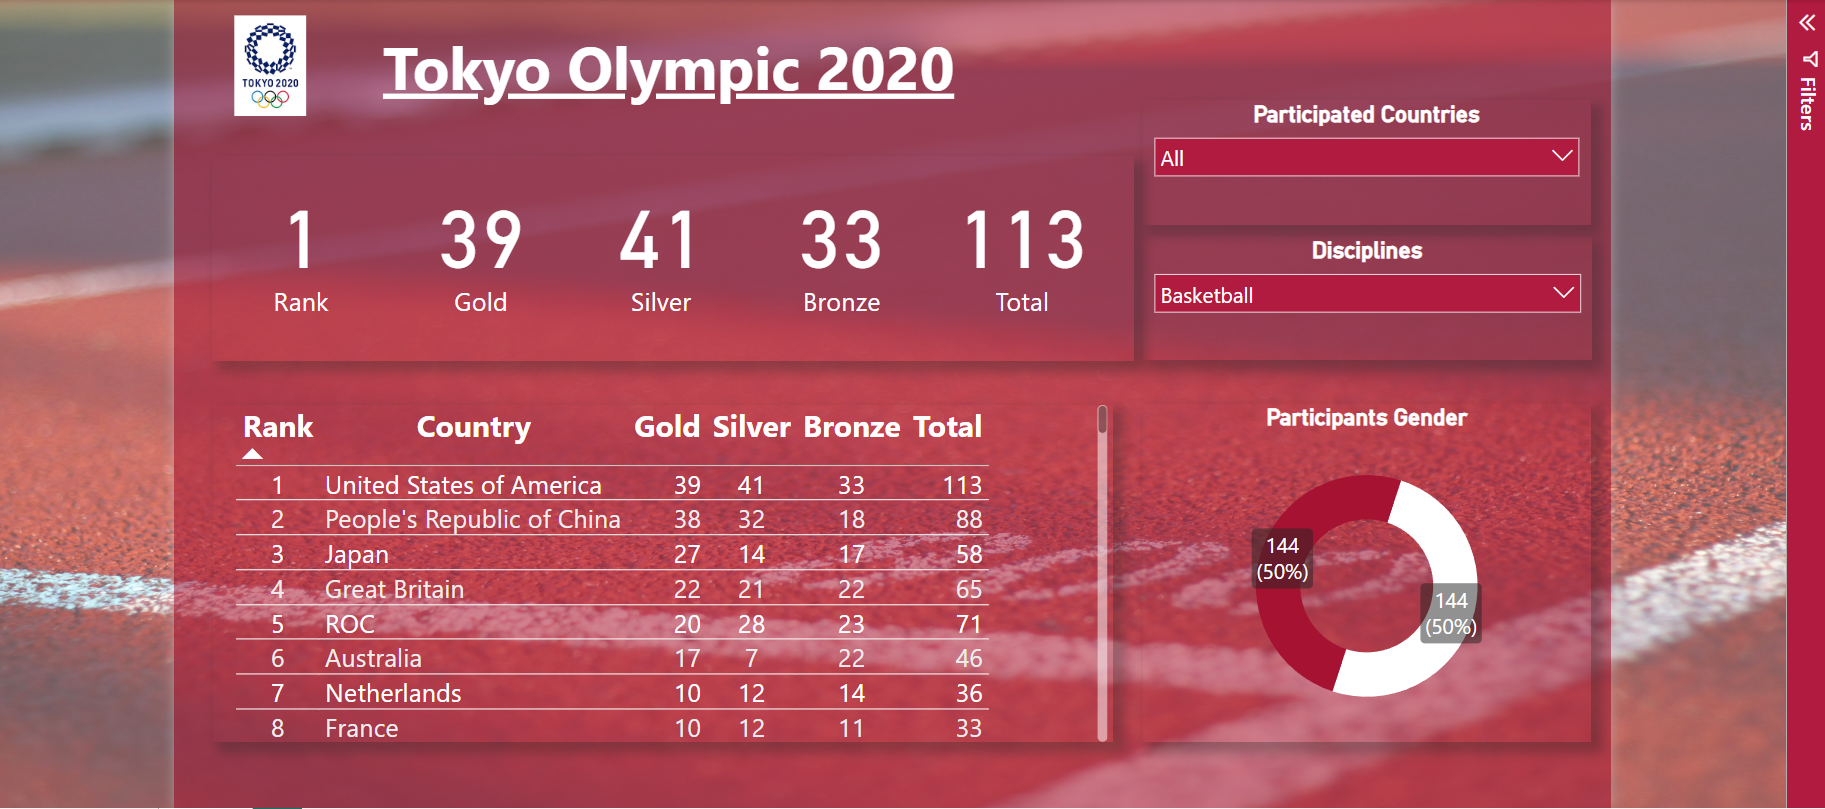

The dashboard page shown, as its layout file describes it:
{"tool":"powerbi","page":{"name":"Page 1","canvas":[1280,720],"ordinal":0},"visuals":[{"type":"tableEx","fields":{"Values":["medals.Rank","medals.Team/NOC","medals.Gold","medals.Silver","medals.Bronze","medals.Total"]},"box":[34.3,360.5,801.8,300.4],"z":0},{"type":"card","fields":{"Values":["Max(medals.Gold)"]},"box":[194,158,160,120],"z":1000,"group":"g1"},{"type":"slicer","title":"Participated Countries","fields":{"Values":["medals.Team/NOC"]},"box":[863,89,398.9,111.2],"z":1000},{"type":"card","fields":{"Values":["Max(medals.Bronze)"]},"box":[514.4,158,161,120],"z":2000,"group":"g1"},{"type":"textbox","box":[33.8,8.4,828.8,98.9],"z":2000},{"type":"image","box":[34.2,8.6,102.7,99],"z":3000},{"type":"card","fields":{"Values":["Max(medals.Silver)"]},"box":[354.2,158,160,120],"z":4000,"group":"g1"},{"type":"card","fields":{"Values":["Max(medals.Total)"]},"box":[675.6,158,160,120],"z":5000,"group":"g1"},{"type":"slicer","title":"Disciplines","fields":{"Values":["Gender.Discipline"]},"box":[863,210.6,400,110],"z":5000},{"type":"card","fields":{"Values":["Min(medals.Rank by Total)"]},"box":[33.8,158,160,120],"z":6000,"group":"g1"},{"type":"shape","box":[33.8,138.7,821.6,182.2],"z":6000},{"type":"group","id":"g1","title":"Group 1","box":[33.8,158,801.8,120],"z":7000},{"type":"donutChart","title":"Participants Gender","fields":{"Y":["Sum(Gender.Female)","Sum(Gender.Male)"]},"box":[862.6,359.5,399.3,301.6],"z":7001}]}

Visuals, with their boxes on the page's 1280x720 design canvas (x1, y1, x2, y2). These are canvas units, not pixel positions in the 1825x809 screenshot, which may show the page scaled, cropped or inside an application window:
tableEx - medals.Rank x medals.Team/NOC: crop(34, 360, 836, 661)
card - Max(medals.Gold): crop(194, 158, 354, 278)
"Participated Countries" slicer: crop(863, 89, 1262, 200)
card - Max(medals.Bronze): crop(514, 158, 675, 278)
textbox: crop(34, 8, 863, 107)
image: crop(34, 9, 137, 108)
card - Max(medals.Silver): crop(354, 158, 514, 278)
card - Max(medals.Total): crop(676, 158, 836, 278)
"Disciplines" slicer: crop(863, 211, 1263, 321)
card - Min(medals.Rank by Total): crop(34, 158, 194, 278)
shape: crop(34, 139, 855, 321)
"Group 1" group: crop(34, 158, 836, 278)
"Participants Gender" donutChart: crop(863, 360, 1262, 661)
